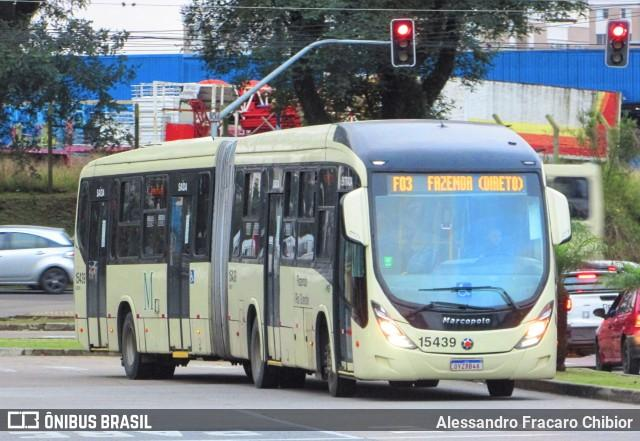FAZENDA: (424, 171, 475, 196)
